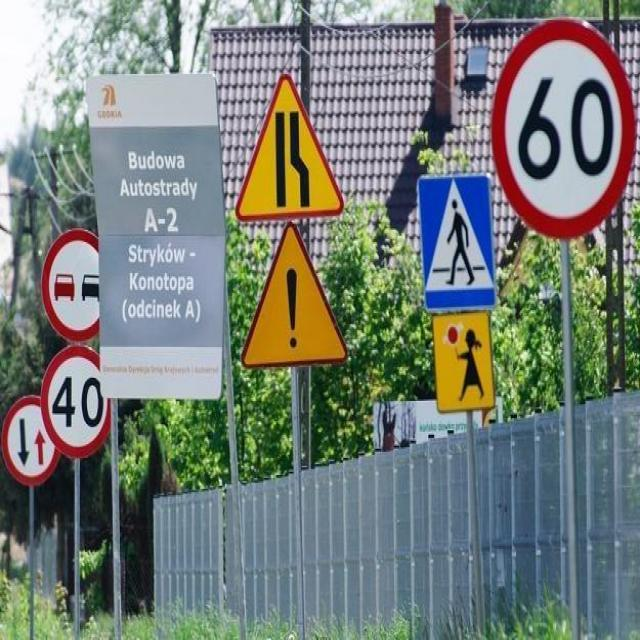speed limit 40: (40, 346, 111, 459)
speed limit 60: (492, 21, 634, 236)
